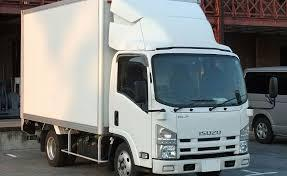truck: (95, 1, 261, 176)
